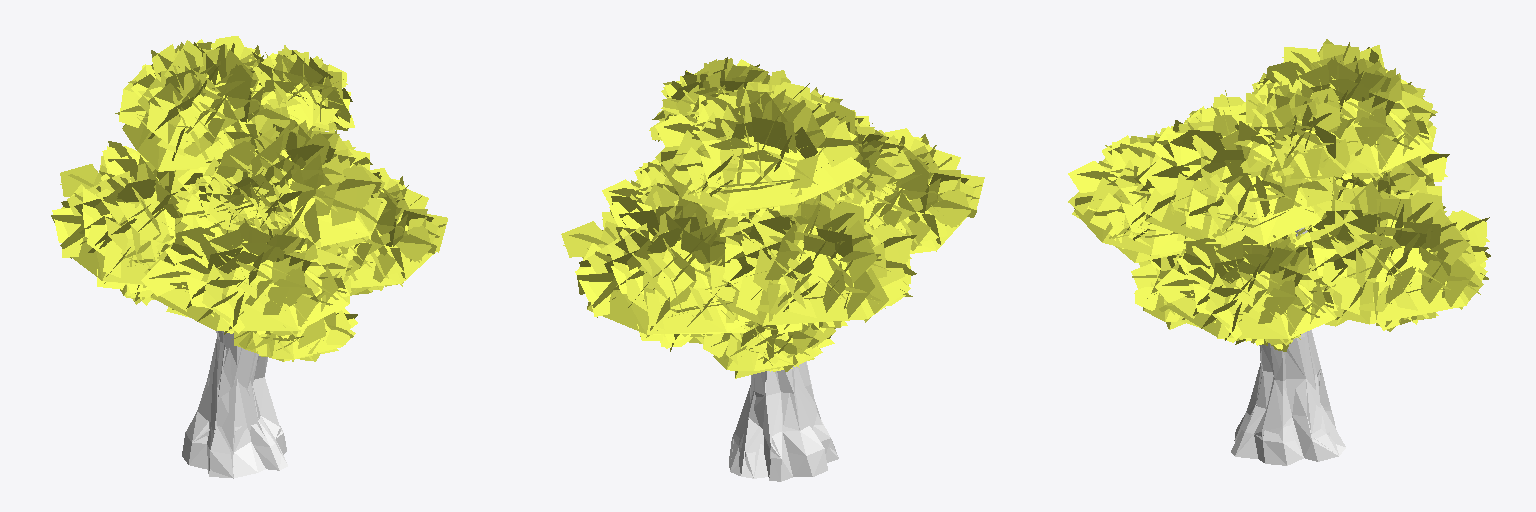
Rendered from Tree_01.obj.
The picture shows the model from 3 angles: view 1: azimuth 30°, elevation 25°; view 2: azimuth 150°, elevation 25°; view 3: azimuth 270°, elevation 25°; orthographic projection.
Visible parts, largest first — view 1: tree_1_LOD0, tree_1_LOD1, tree_1_LOD2; view 2: tree_1_LOD0, tree_1_LOD1, tree_1_LOD2; view 3: tree_1_LOD0, tree_1_LOD1, tree_1_LOD2.
Part boxes in pixels (x1,y1,x2,y2): tree_1_LOD0: (51,36,447,478); tree_1_LOD1: (51,36,447,477); tree_1_LOD2: (60,41,444,331); tree_1_LOD0: (562,58,983,481); tree_1_LOD1: (561,57,984,481); tree_1_LOD2: (563,78,980,348); tree_1_LOD0: (1068,39,1490,465); tree_1_LOD1: (1068,39,1488,458); tree_1_LOD2: (1068,46,1490,327).
Size of the model in its own units: 27.6 by 32.25 by 31.25.